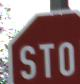Stop sign: (0, 0, 79, 83)
